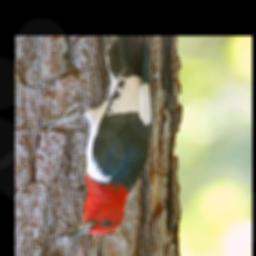Woodpecker: (40, 39, 154, 239)
